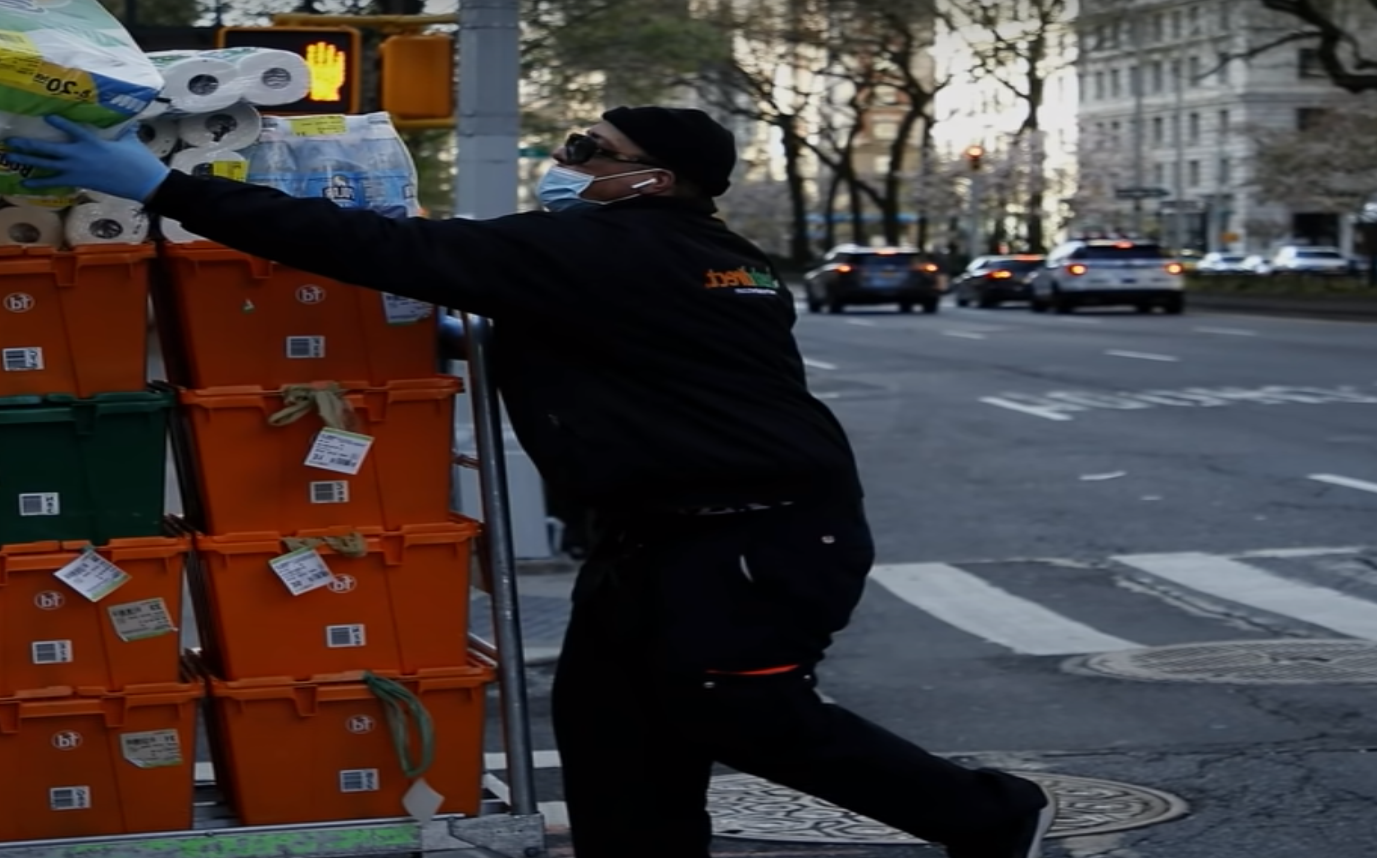mask_weared_incorrect: (533, 104, 733, 217)
